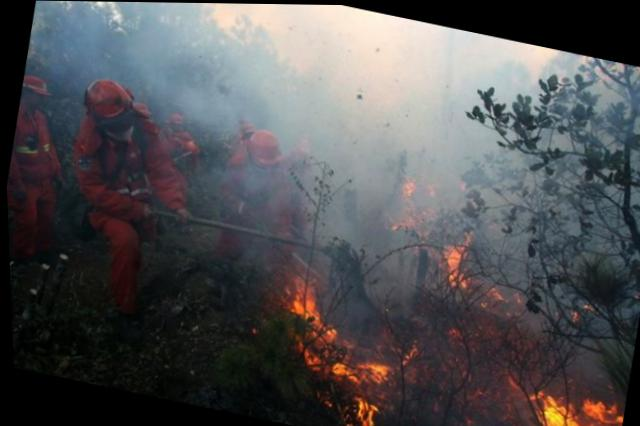fire: (252, 257, 409, 423), (518, 373, 622, 423), (430, 222, 482, 287)
